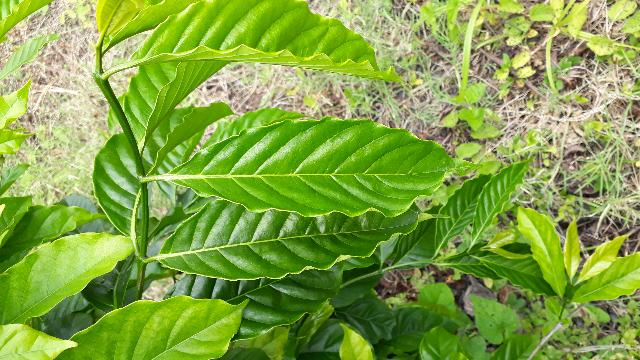healthy: (169, 120, 460, 215)
